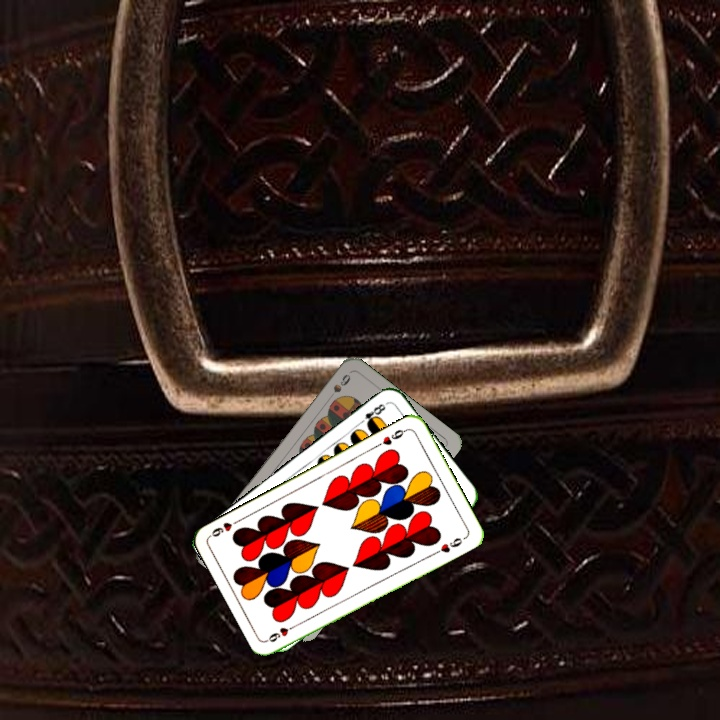E8: (355, 399, 390, 429)
H9: (264, 620, 301, 645), (373, 425, 410, 449)
S9: (323, 370, 353, 404)
